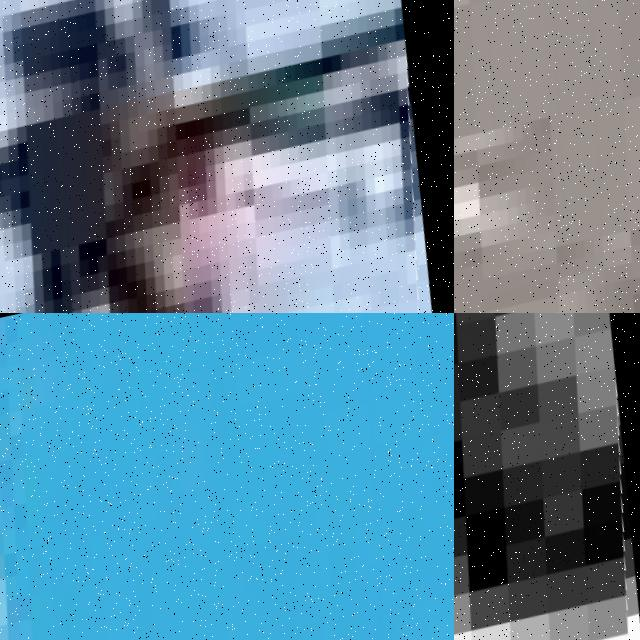0: (0, 0, 454, 313), (454, 0, 640, 313)
drone: (0, 313, 454, 640), (454, 313, 640, 640)
